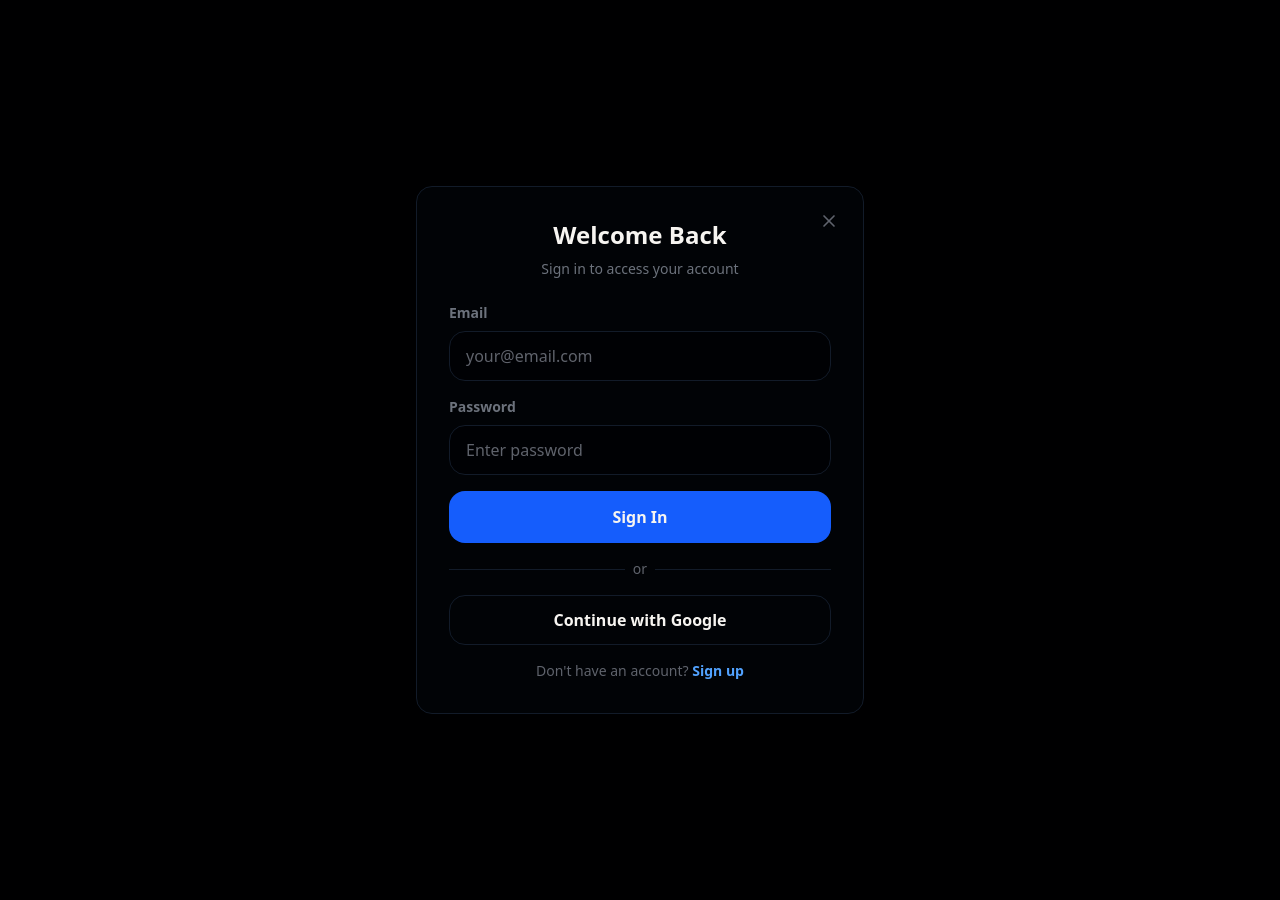
AuthModals › login form submission › shows inline error on login failure
Type "user@example.com" into the field with placeholder "your@email.com" at (640, 356), box [449, 331, 831, 381]
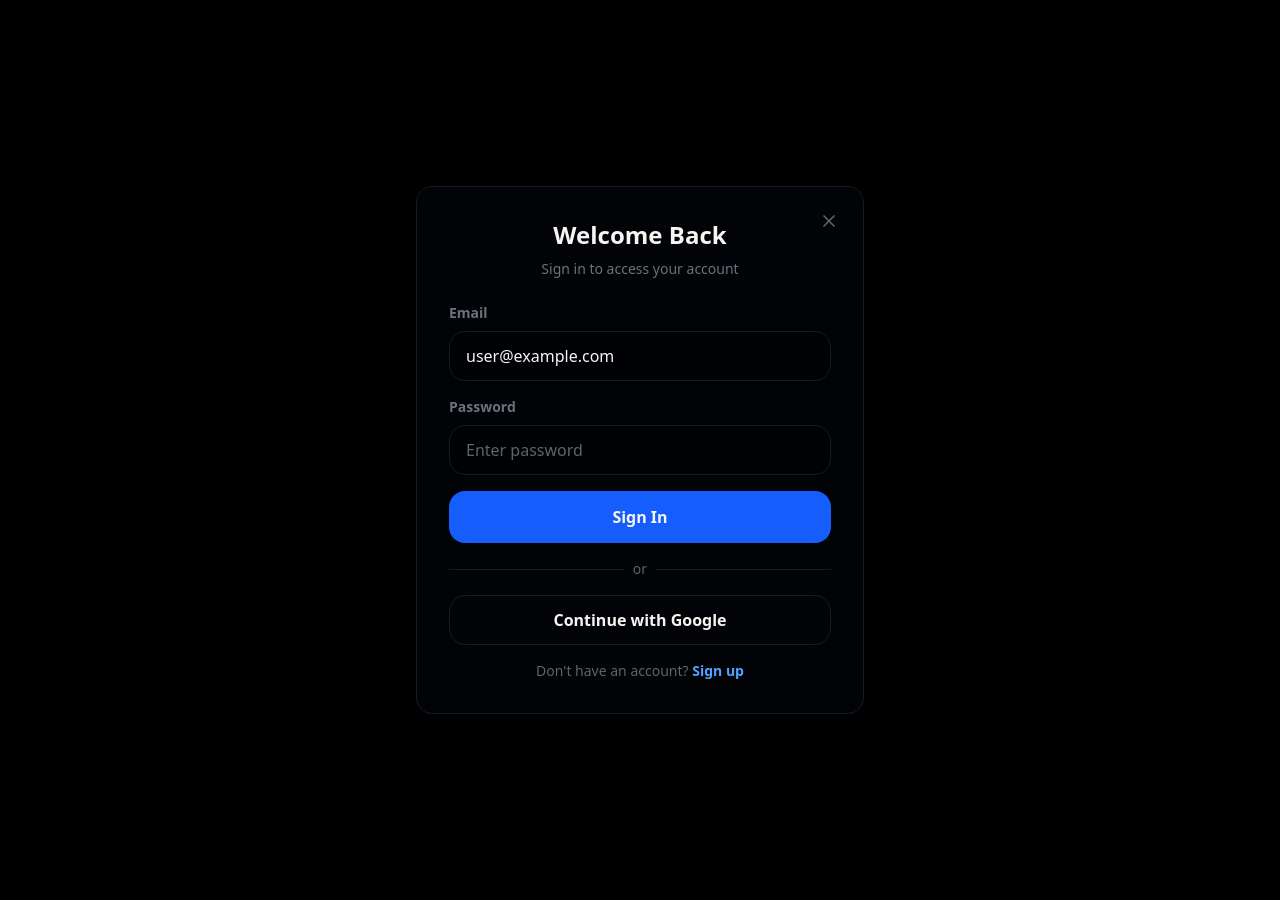
Type "wrong" into the password field with placeholder "Enter password" at (640, 450), box [449, 425, 831, 475]
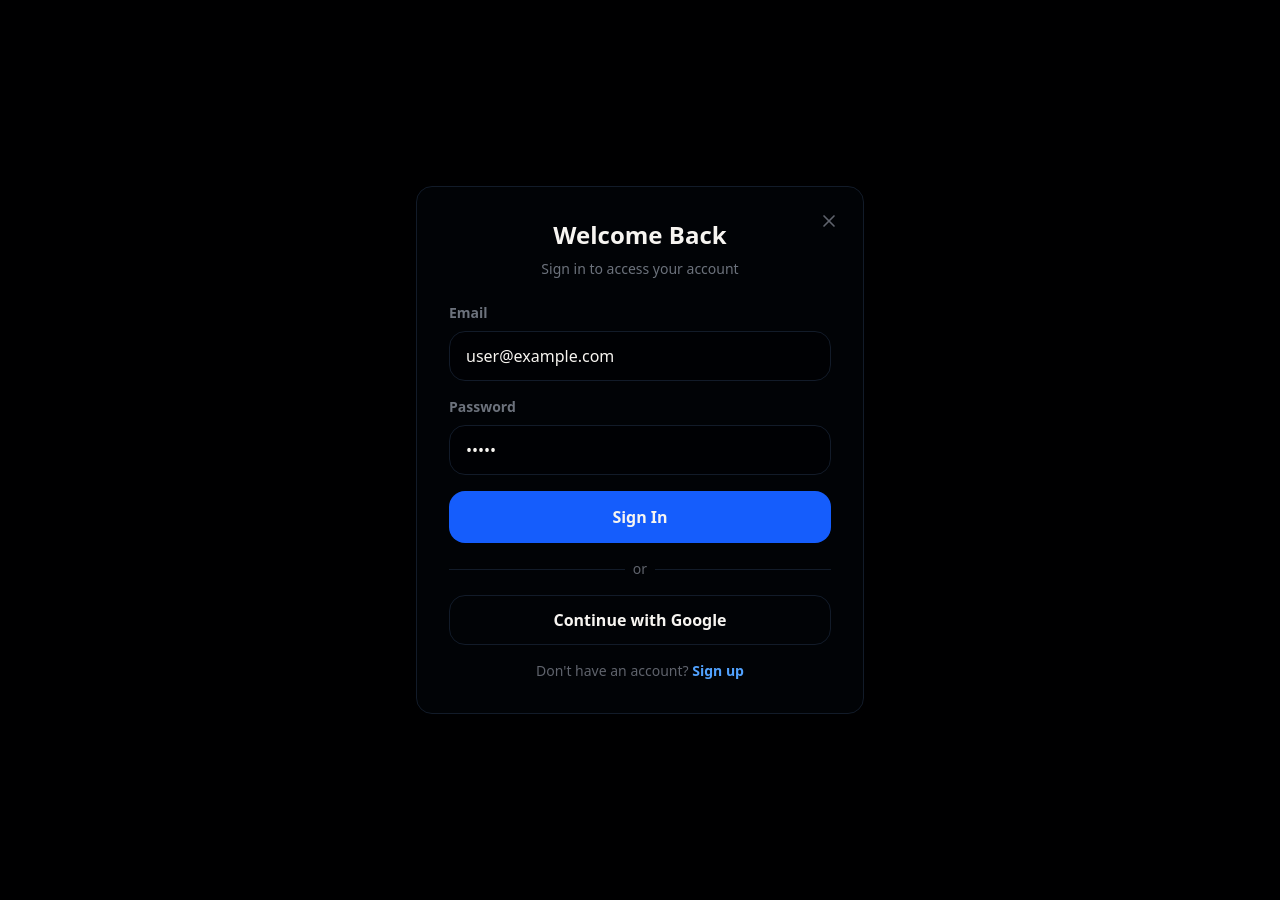
Click the button "Sign In" at (640, 517), box [449, 491, 831, 543]
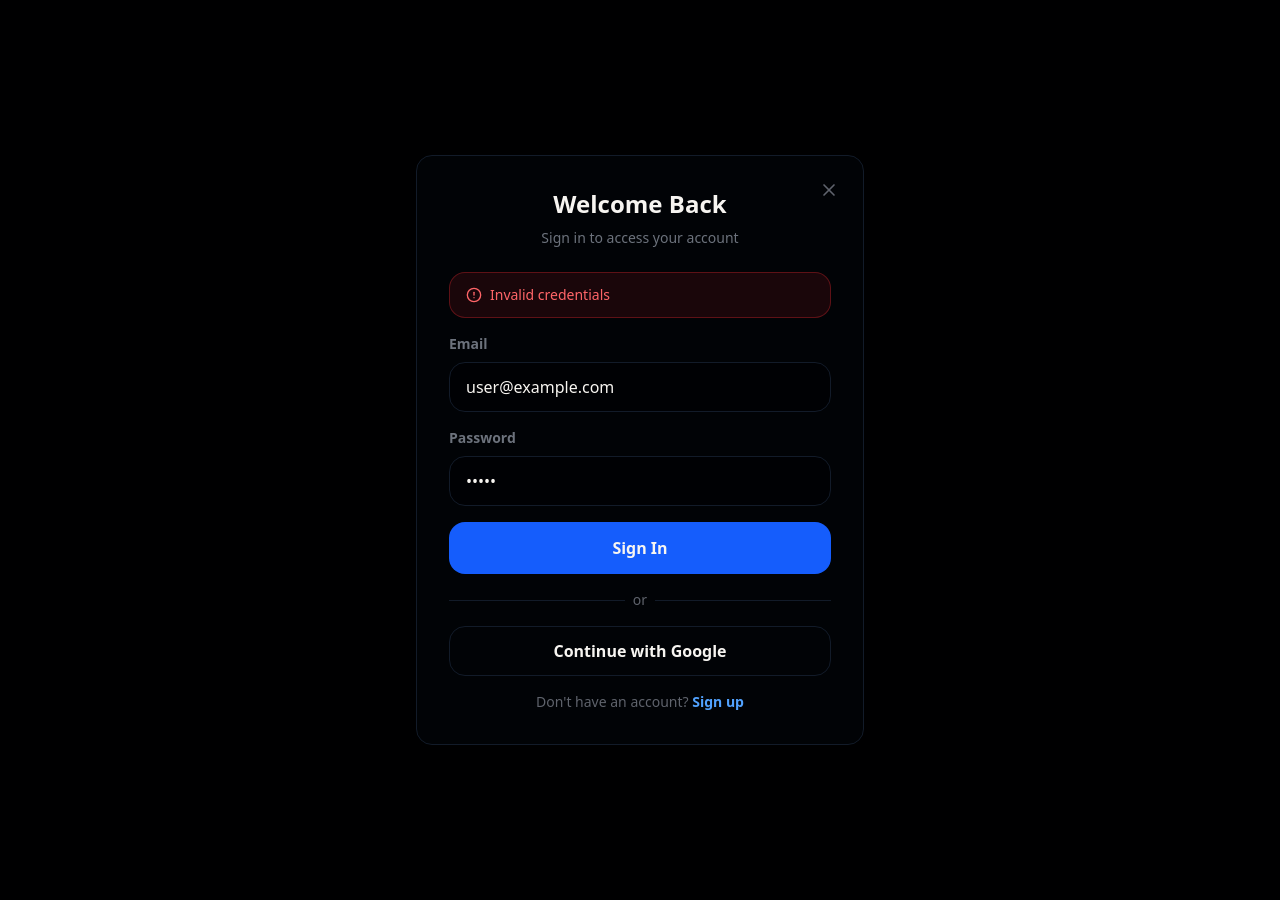
expect the text "Invalid credentials" is shown: met, box [490, 285, 610, 305]
